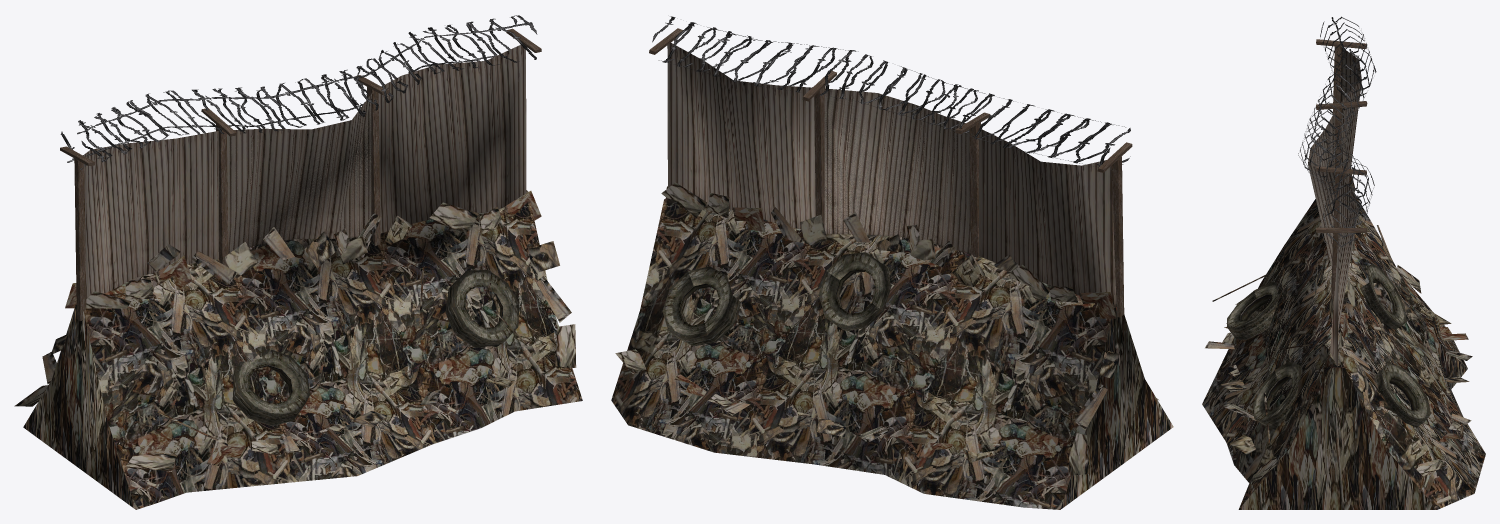
Rendered from Baricd03.glb.
The picture shows the model from 3 angles, left to right: view 1: azimuth 30°, elevation 25°; view 2: azimuth 150°, elevation 25°; view 3: azimuth 270°, elevation 25°; orthographic projection. The views are drawn at different scales.
Parts seen in each view (by area): view 1: _Baricd03; view 2: _Baricd03; view 3: _Baricd03.
Part boxes in pixels (left/top/right/bottom): _Baricd03: left=14, top=15, right=582, bottom=509; _Baricd03: left=611, top=16, right=1173, bottom=509; _Baricd03: left=1202, top=16, right=1485, bottom=509.
Bounding box in the file's own units: 5.37 × 3.74 × 3.12.
3 materials, 3 textured.
